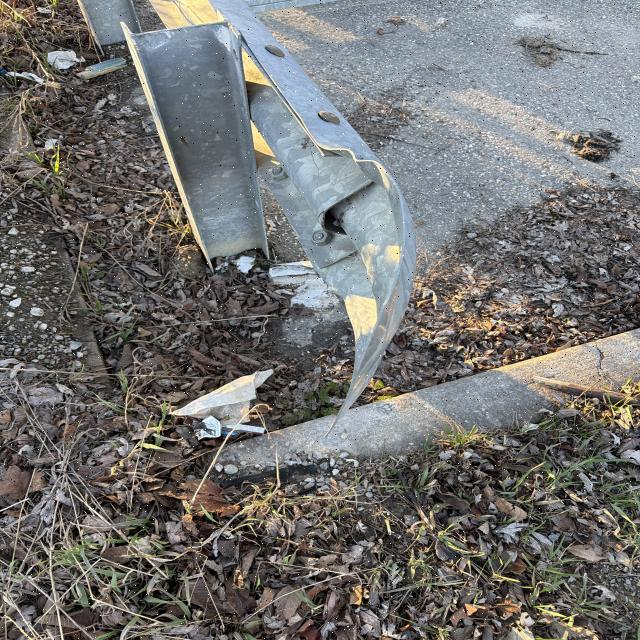Guard rail: (82, 27, 416, 325)
